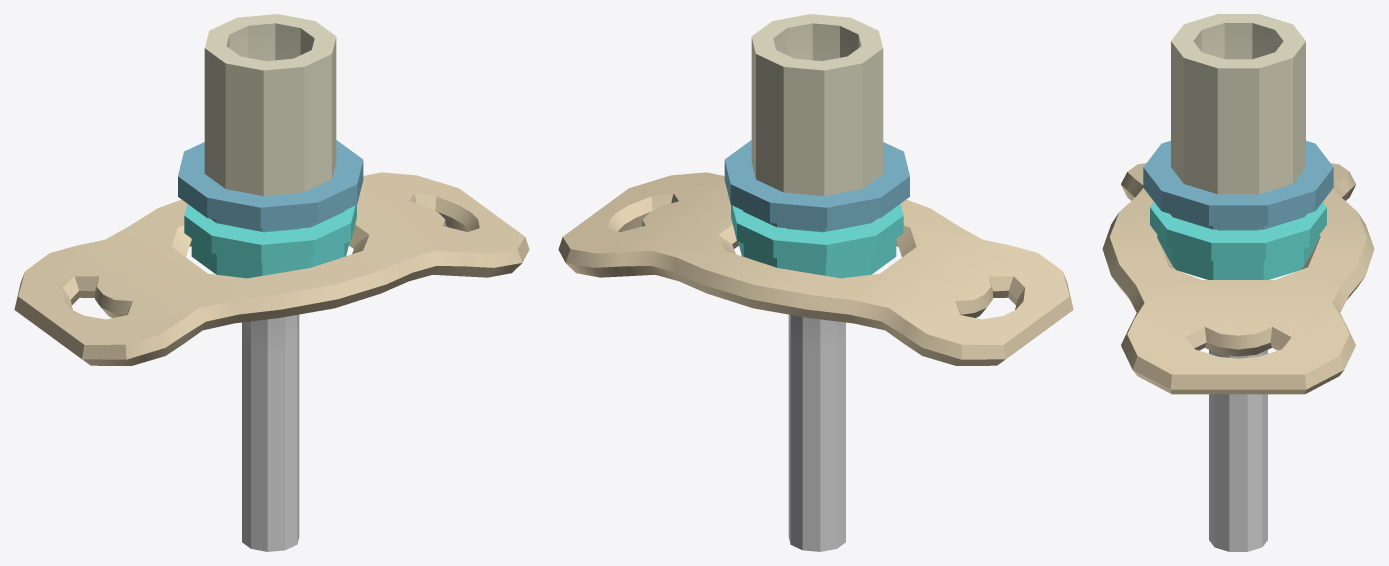
Rendered from tracheo_2.fbx.
3 views of the same model, side by side, from view 1: azimuth 30°, elevation 25°; view 2: azimuth 150°, elevation 25°; view 3: azimuth 270°, elevation 25° (orthographic).
Parts seen in each view (by area): view 1: Ydre kanyle, Vinge, Inner kanyle; view 2: Ydre kanyle, Vinge, Inner kanyle; view 3: Ydre kanyle, Vinge, Inner kanyle.
Part boxes in pixels (<box>): Ydre kanyle: <box>178,14,363,551</box>; Vinge: <box>14,172,529,365</box>; Inner kanyle: <box>184,204,356,278</box>; Ydre kanyle: <box>724,14,909,551</box>; Vinge: <box>558,172,1073,365</box>; Inner kanyle: <box>731,204,903,278</box>; Ydre kanyle: <box>1143,14,1333,551</box>; Vinge: <box>1102,163,1374,394</box>; Inner kanyle: <box>1150,202,1326,279</box>.
Size of the model in its own units: 545 by 579 by 286.
